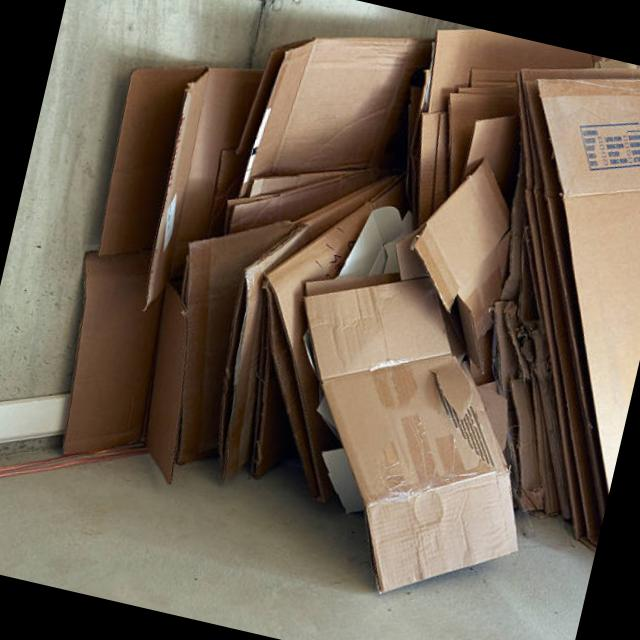electronic: (238, 248, 572, 621), (440, 43, 640, 513), (251, 20, 416, 198)
